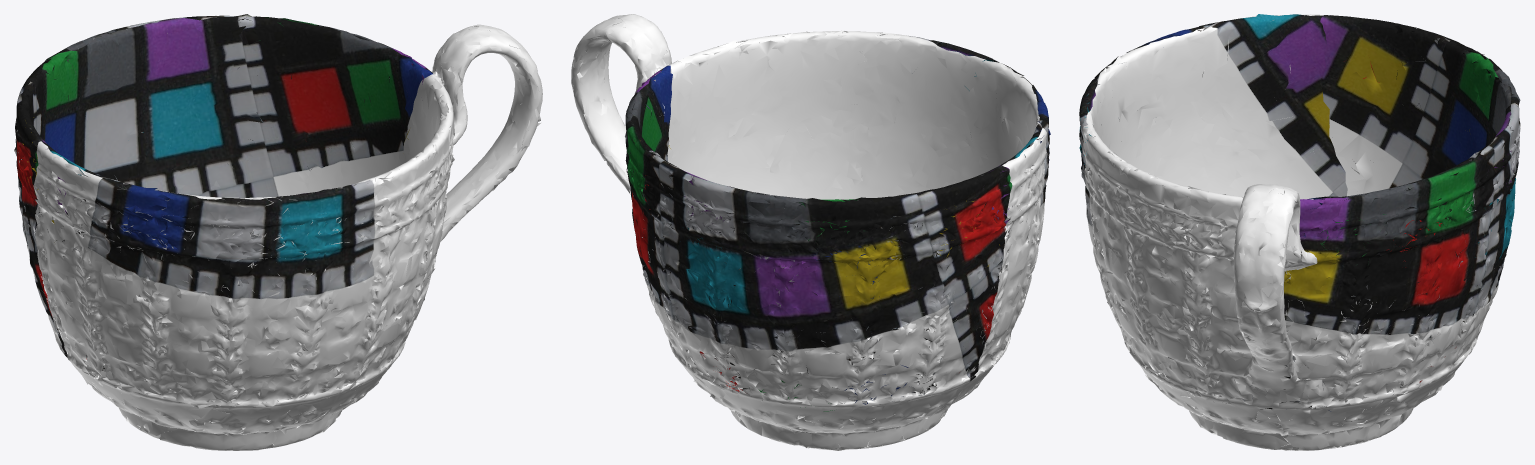
File: Cup.fbx
3 renders of one model, left to right at view 1: azimuth 30°, elevation 25°; view 2: azimuth 150°, elevation 25°; view 3: azimuth 270°, elevation 25°, orthographic. The views are drawn at different scales.
Visible parts, largest first — view 1: Object_2; view 2: Object_2; view 3: Object_2.
Part boxes in pixels (box(x1,y1,x2,y2)): Object_2: box(14, 14, 542, 450); Object_2: box(571, 14, 1050, 450); Object_2: box(1079, 14, 1520, 450).
Bounding box in the file's own units: 10.34 × 6.88 × 8.27.
